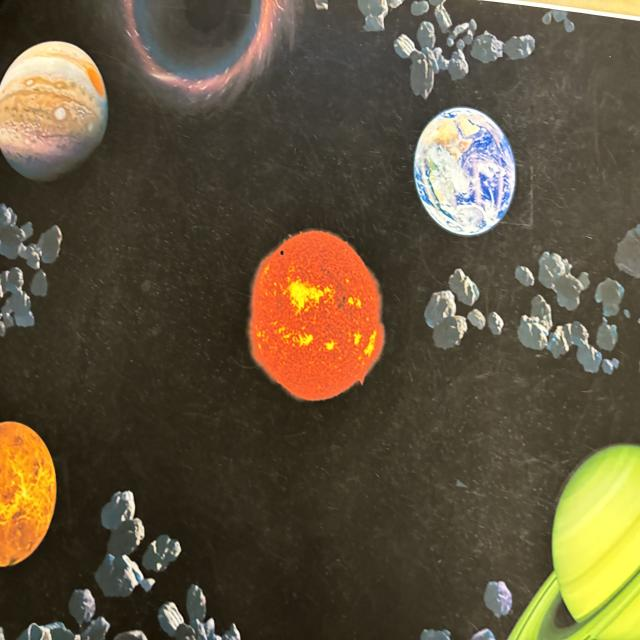Asteroids: (431, 230, 640, 376), (54, 498, 202, 640), (359, 2, 579, 90), (1, 205, 63, 350)
Black Hole: (128, 0, 270, 94)
Earth: (413, 105, 519, 233)
Jupiter: (0, 38, 111, 184)
Saturn: (508, 438, 640, 640)
Sun: (246, 228, 387, 406)
Venus: (0, 418, 58, 570)
